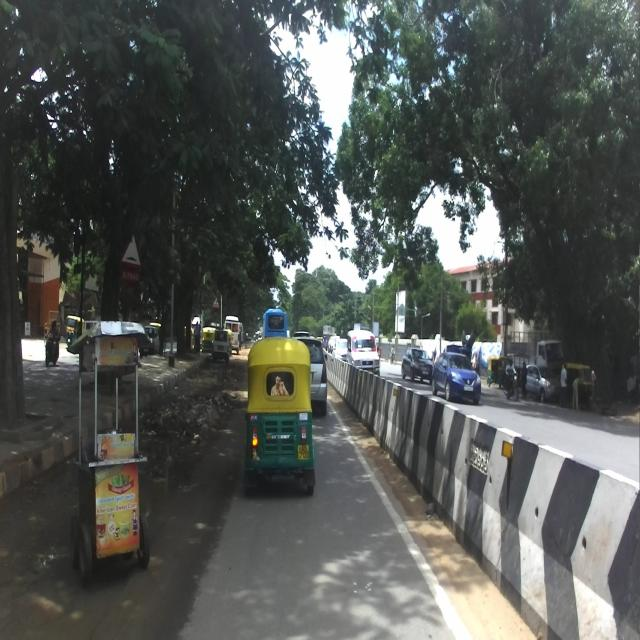autorickshaw: (243, 336, 315, 495)
